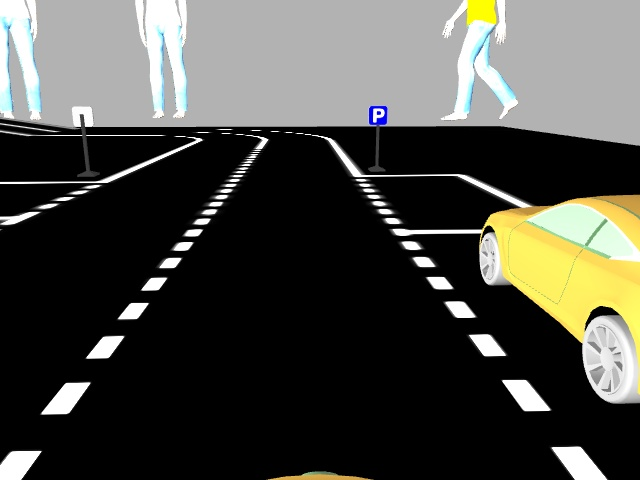Parking: (365, 104, 388, 126)
